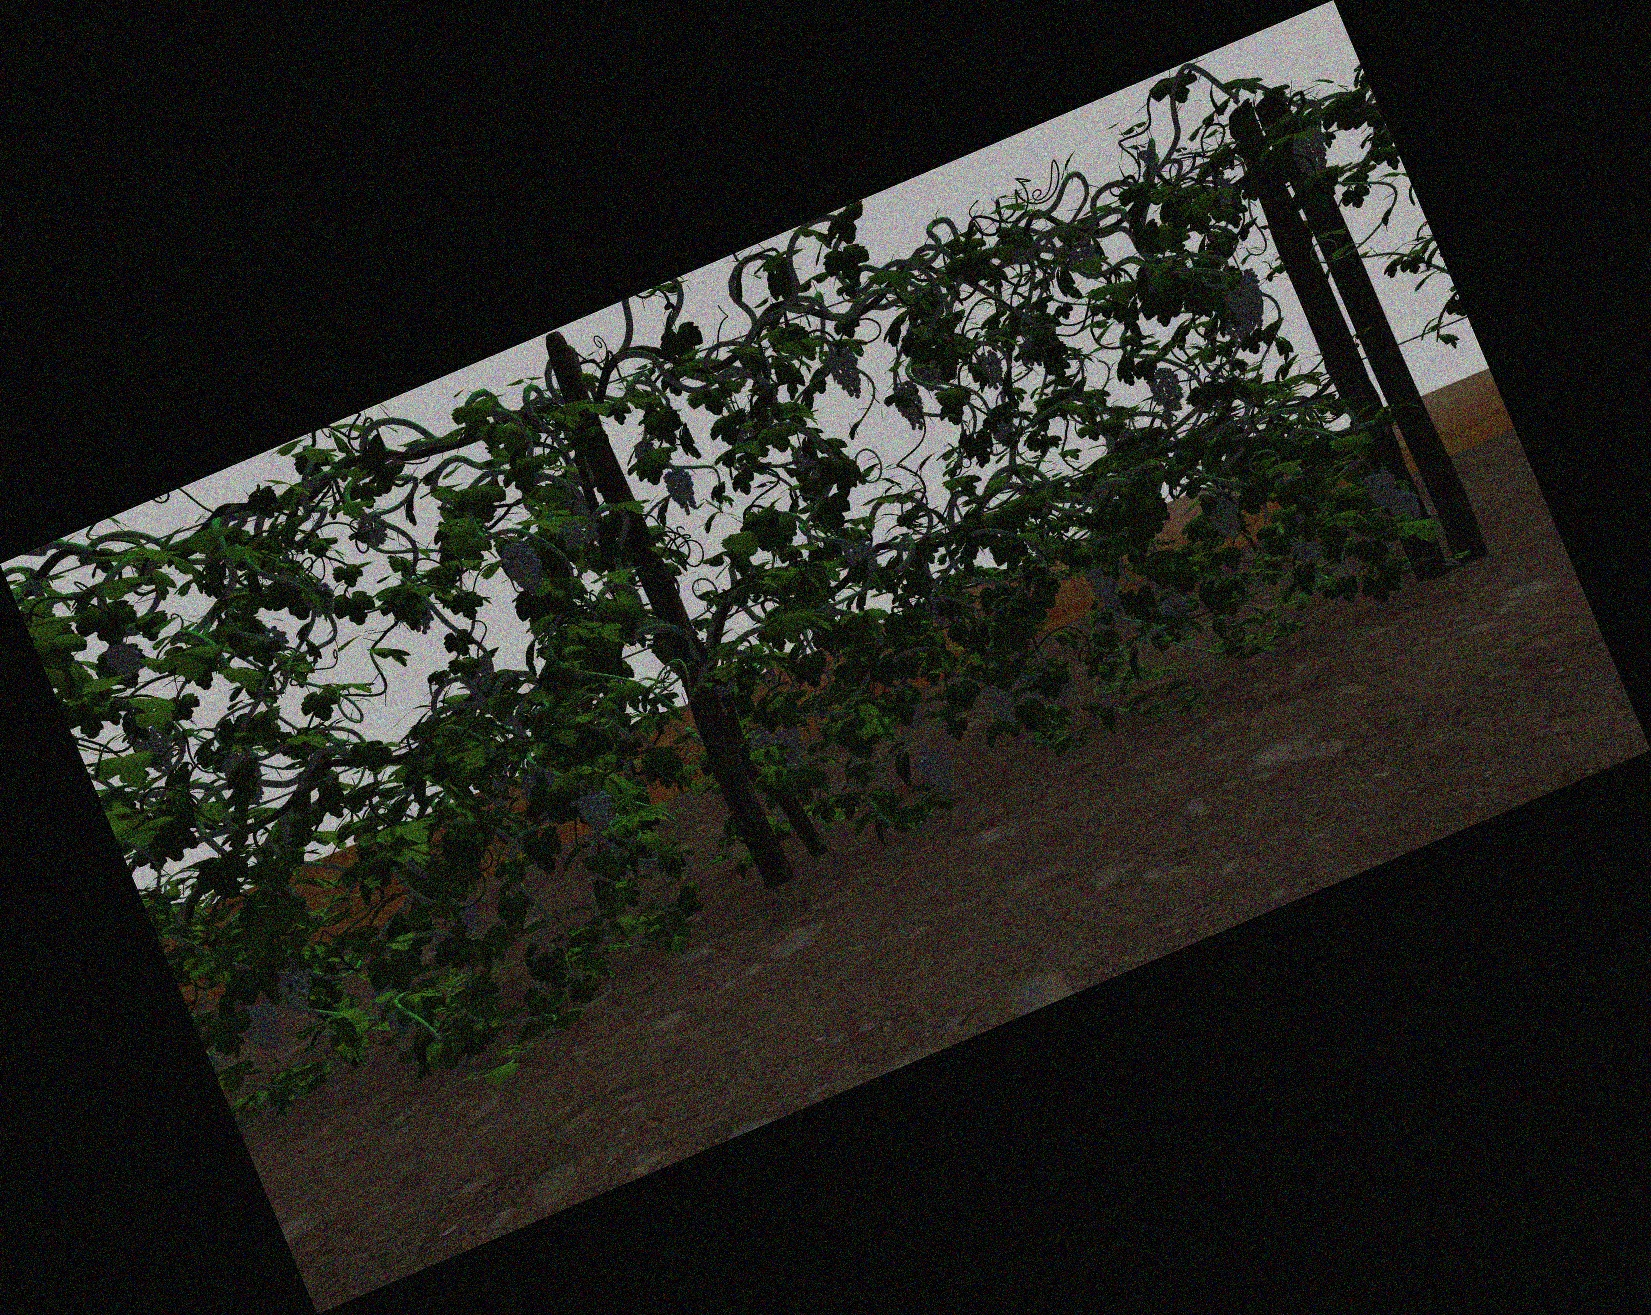grape: (1229, 272, 1267, 327), (245, 1002, 282, 1052), (583, 793, 620, 843), (506, 539, 539, 589), (1294, 129, 1328, 178), (832, 346, 861, 399), (1210, 494, 1242, 541), (923, 751, 954, 798), (1090, 564, 1119, 615), (667, 468, 697, 514), (1151, 368, 1182, 413), (897, 382, 924, 431), (278, 971, 314, 1006), (990, 682, 1017, 727), (107, 641, 141, 675), (1367, 470, 1398, 506), (1293, 530, 1321, 565), (976, 354, 1003, 390), (852, 542, 878, 578), (1392, 494, 1422, 523), (781, 729, 805, 761), (561, 521, 585, 547), (1160, 594, 1187, 619), (748, 729, 773, 749)
